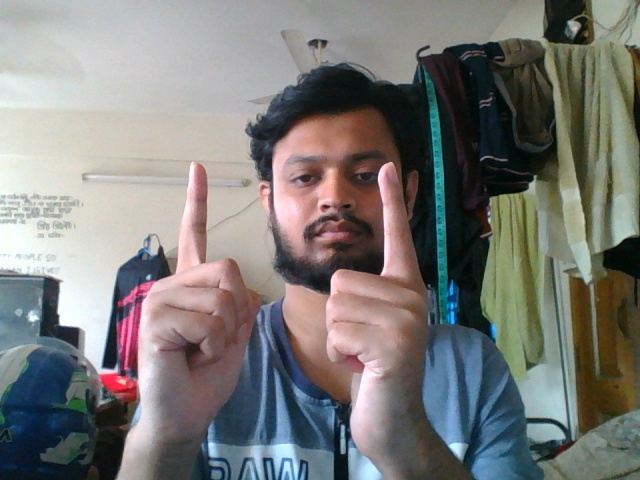ishara: (121, 157, 469, 467)
